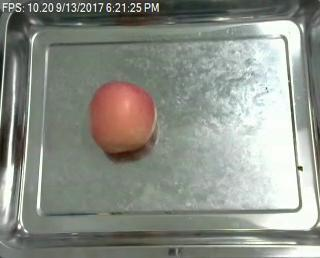apple: (87, 81, 156, 152)
